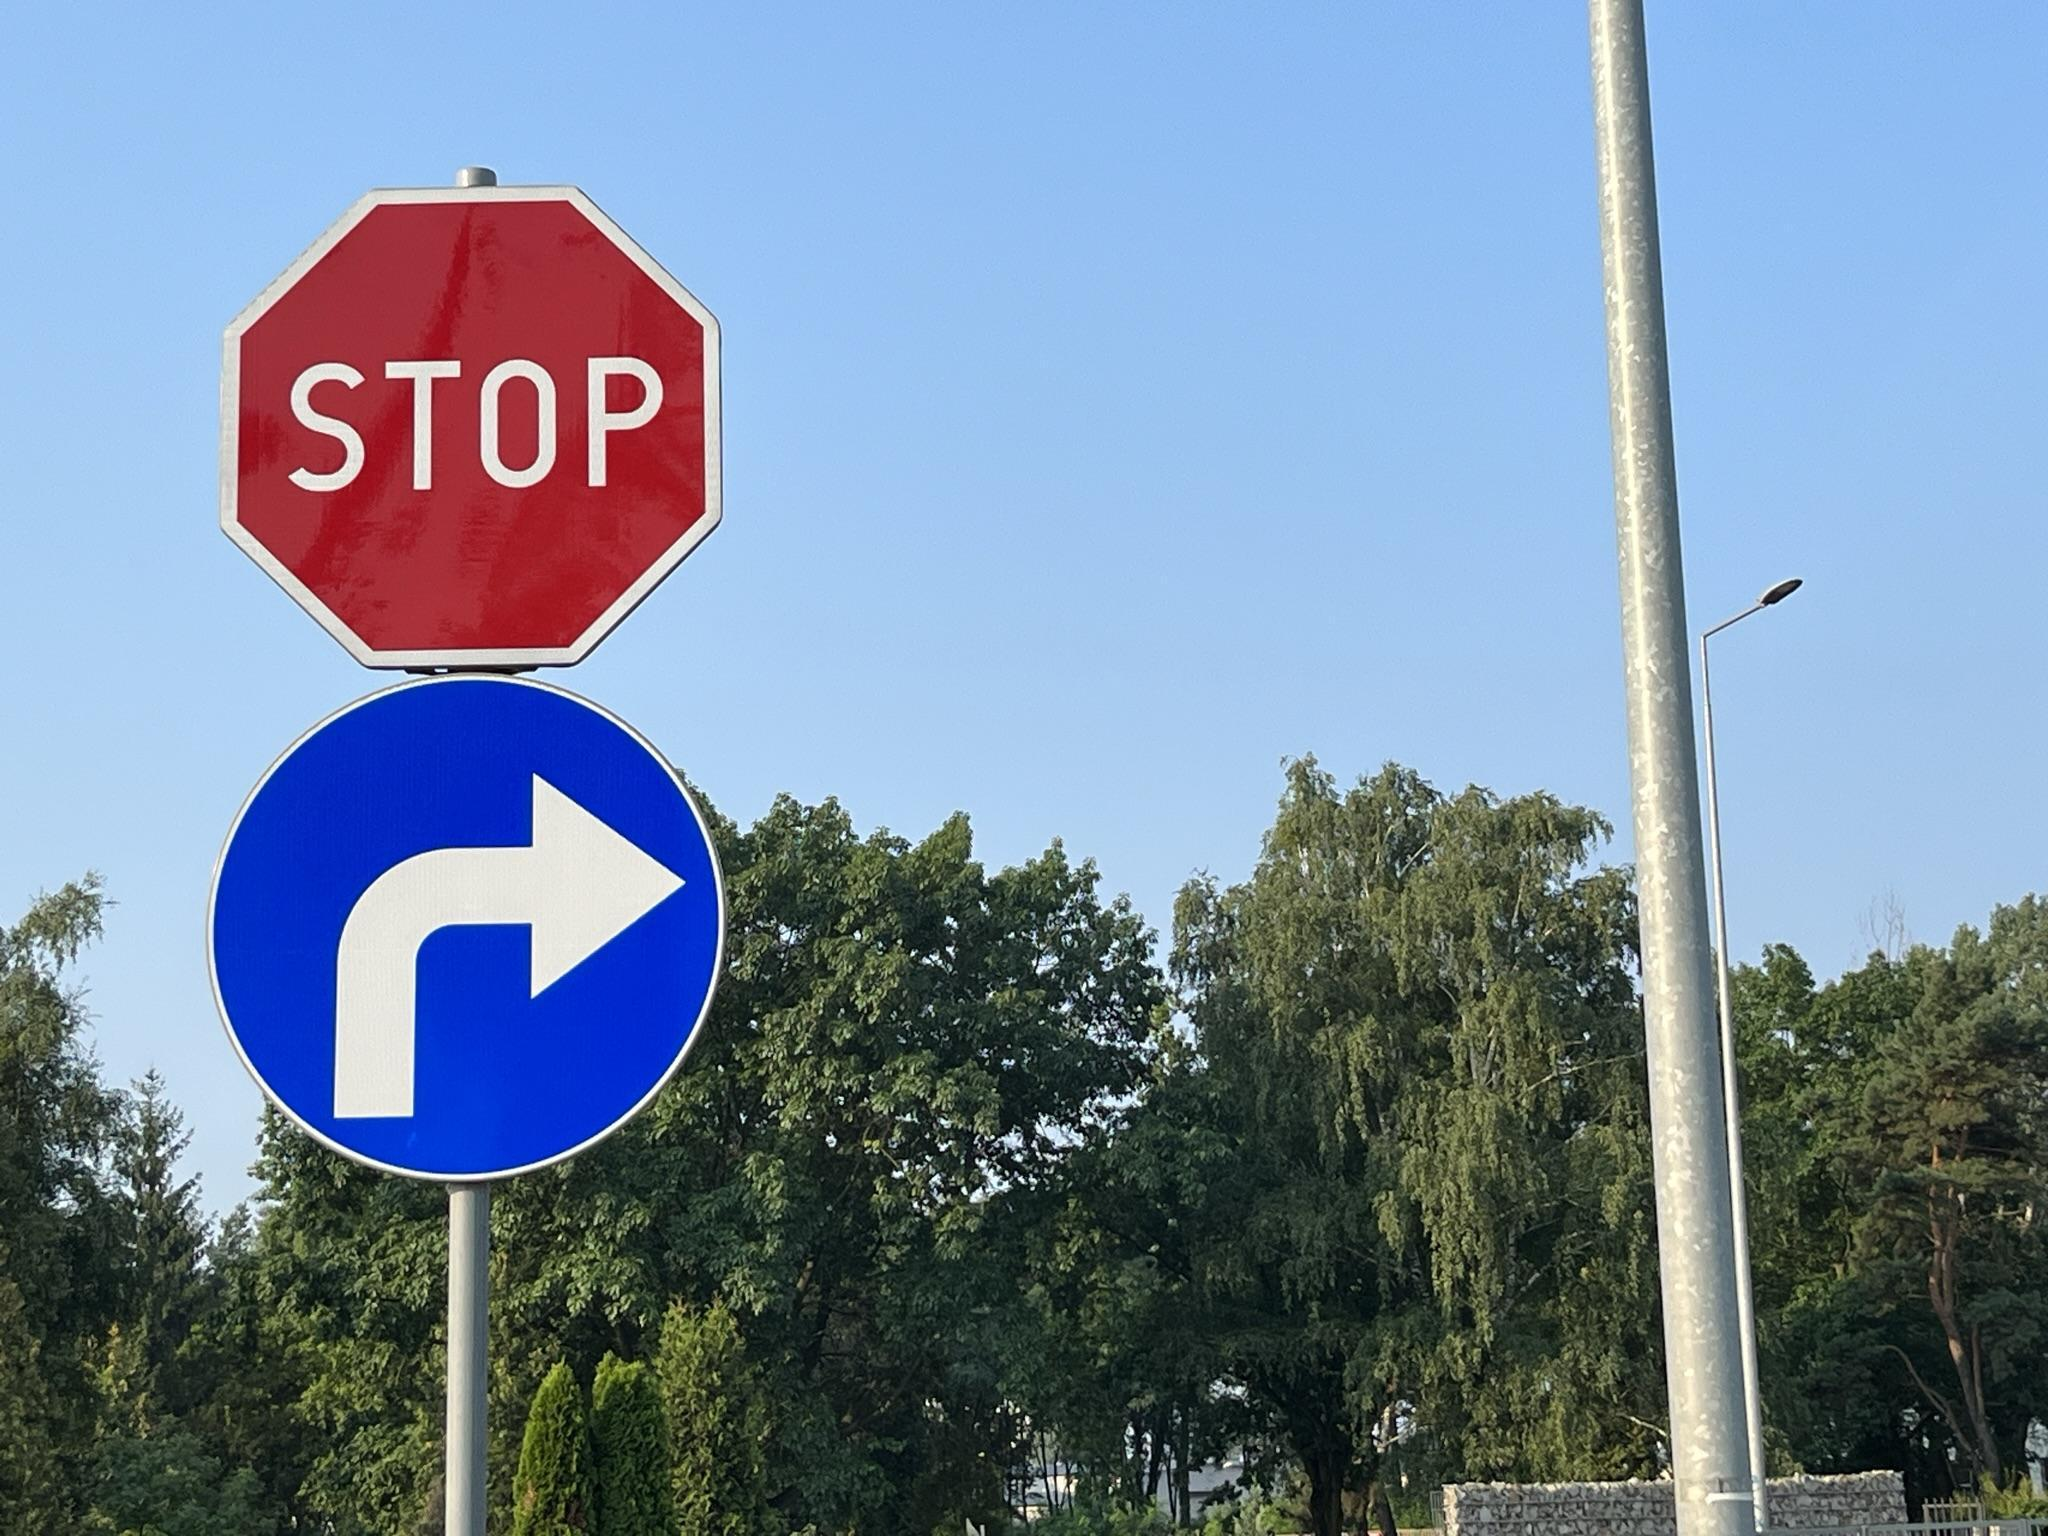mandatory: (206, 671, 727, 1191)
prohibitory: (226, 189, 731, 671)
